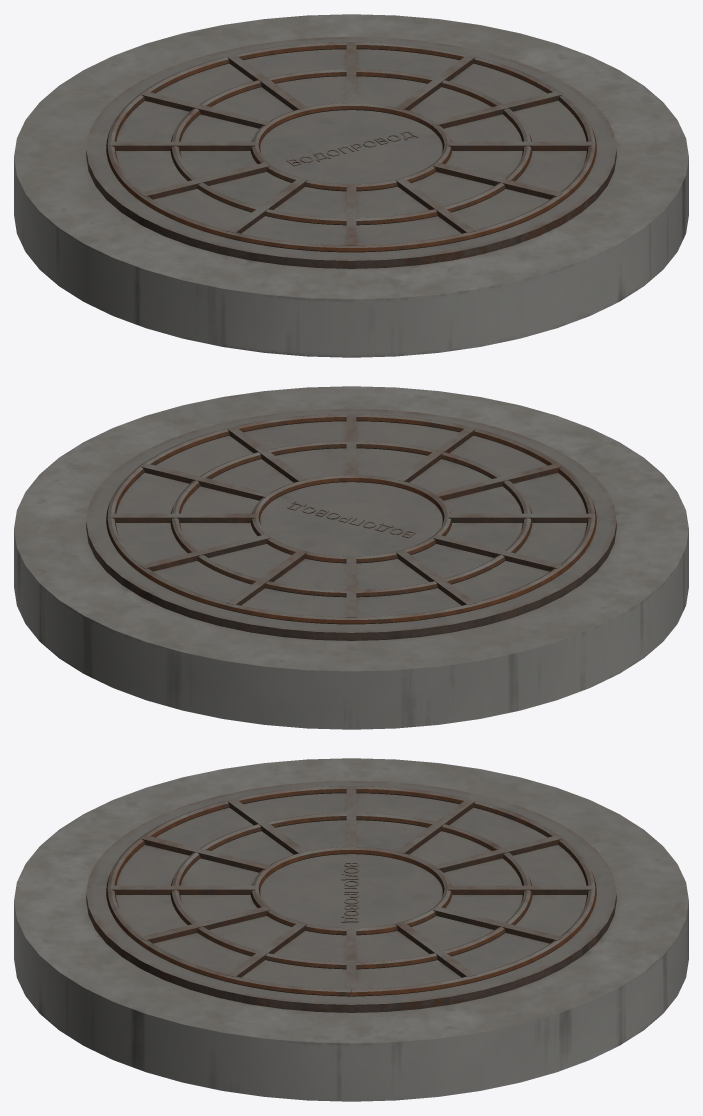
File: SM_ManholeCover.fbx
3 views of the same model, one above another, from view 1: azimuth 30°, elevation 25°; view 2: azimuth 150°, elevation 25°; view 3: azimuth 270°, elevation 25° (orthographic).
Visible parts, largest first — view 1: SM_ManholeCover; view 2: SM_ManholeCover; view 3: SM_ManholeCover.
Part boxes in pixels (left/top/right/bottom): SM_ManholeCover: left=14, top=14, right=688, bottom=357; SM_ManholeCover: left=14, top=386, right=688, bottom=729; SM_ManholeCover: left=14, top=758, right=688, bottom=1101.
Bounding box in the file's own units: 0.84 × 0.098 × 0.84.
Materials: 1 (1 with a texture image).
